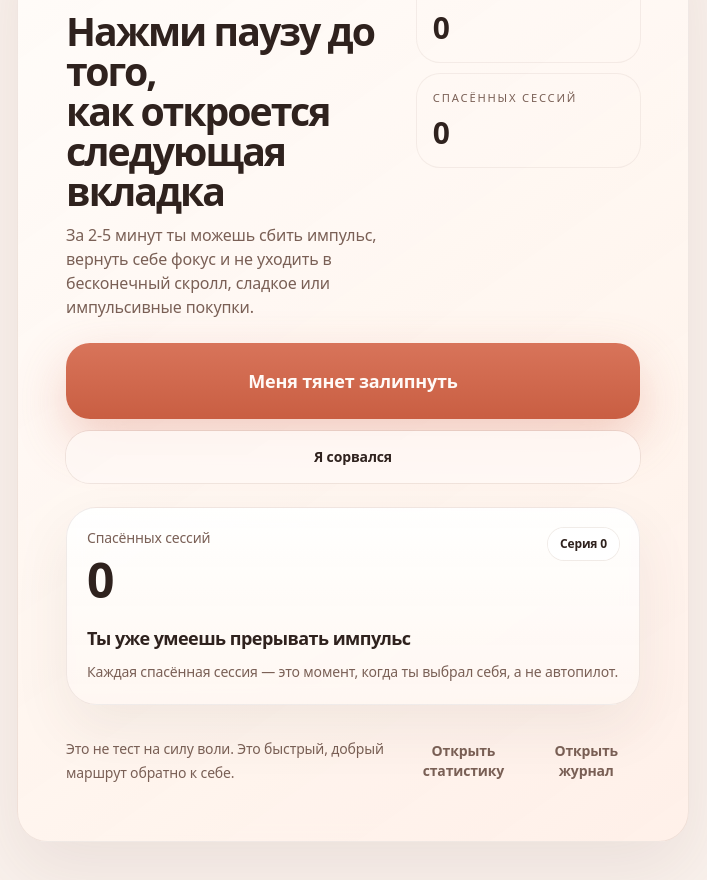
Test: opens the journal page from the home screen
The width and height of the screenshot is (707, 880).
(page scrolled)
Click the button "Открыть журнал".
click(586, 761)  # box [532, 729, 640, 793]
(page scrolled)
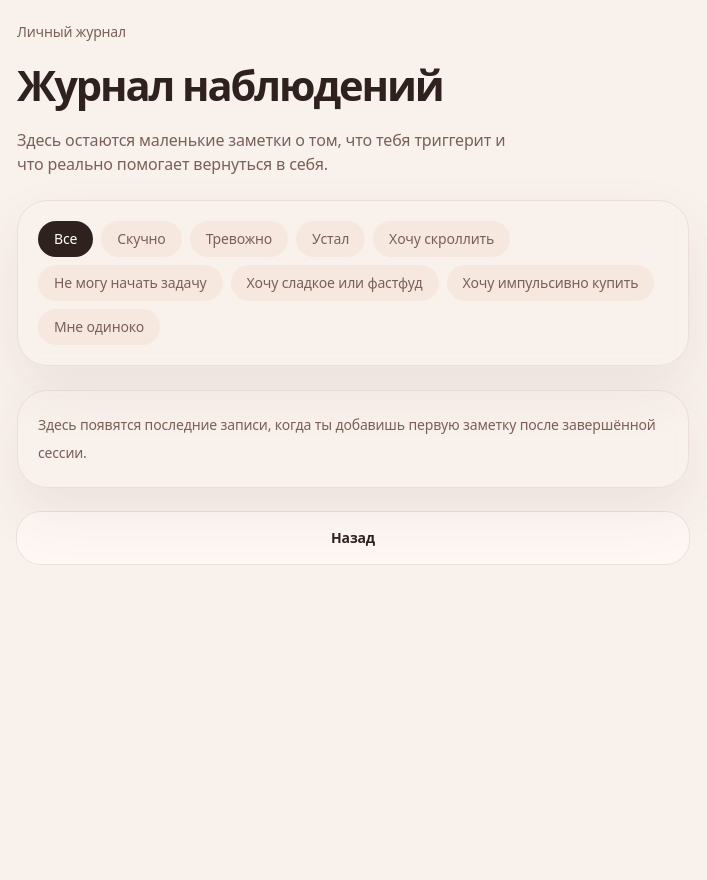
Expected: the heading "Журнал наблюдений" is shown, [17, 57, 443, 113]
Expected: the button "Все" is shown, [38, 221, 93, 257]
